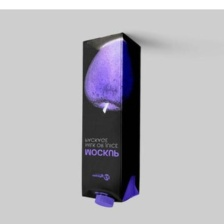carton: (78, 30, 143, 209)
